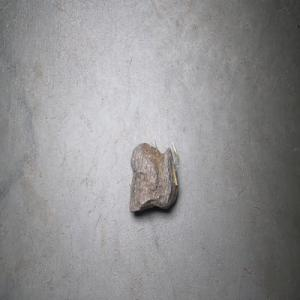Rock: (128, 139, 179, 212)
